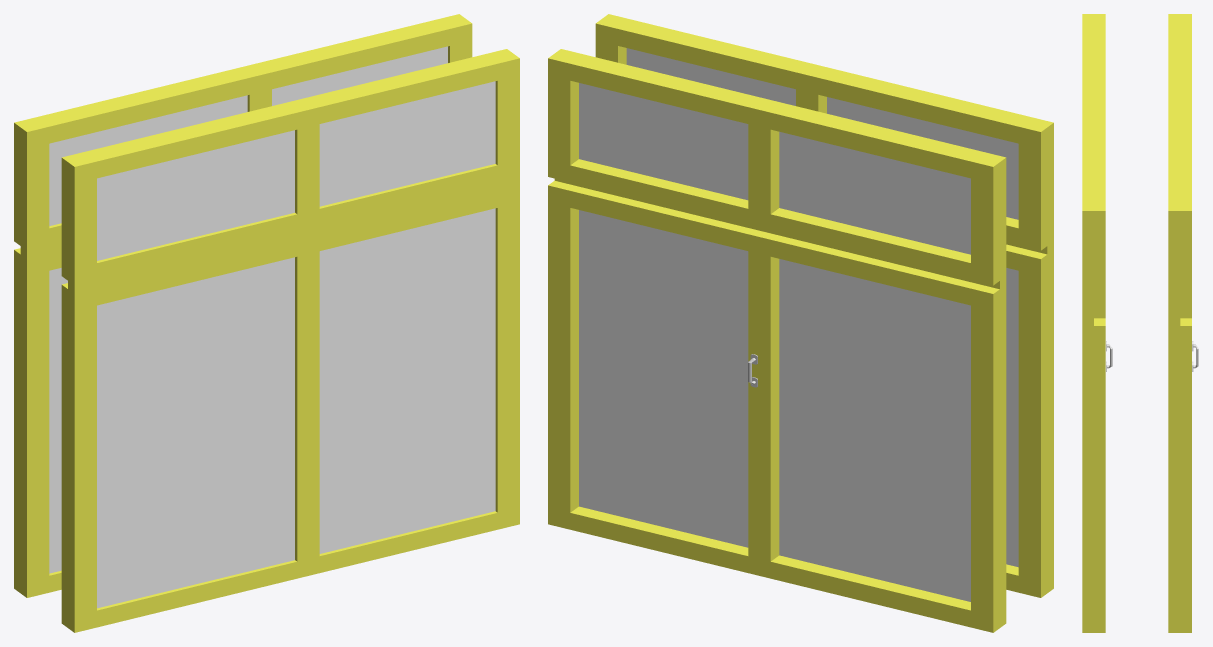
The model's file is Windows_Wood.fbx.
The picture shows the model from 3 angles, left to right: view 1: azimuth 30°, elevation 25°; view 2: azimuth 150°, elevation 25°; view 3: azimuth 270°, elevation 25°; orthographic projection. The views are drawn at different scales.
Visible parts, largest first — view 1: Windows_Wood_LOD0; view 2: Windows_Wood_LOD0; view 3: Windows_Wood_LOD0.
Boxes of the visible parts, x1,y1,x2,y2 form: Windows_Wood_LOD0: [14, 14, 519, 632]; Windows_Wood_LOD0: [548, 14, 1053, 632]; Windows_Wood_LOD0: [1082, 14, 1198, 632].
Size of what is drawn, in the model's own units: 300 by 300 by 75.1.
